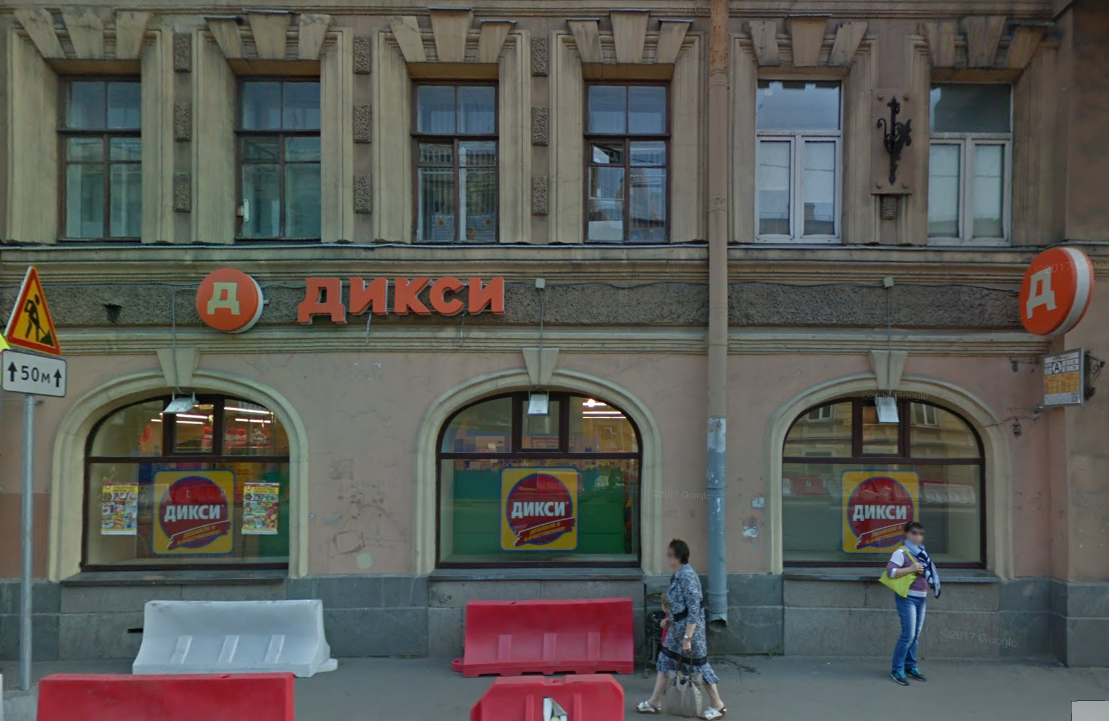cantilever: (1007, 238, 1096, 344)
signboard: (191, 256, 511, 335)
win_ad: (837, 466, 921, 556), (503, 467, 580, 552), (153, 472, 230, 555)
window: (781, 383, 991, 569), (436, 387, 640, 566), (82, 392, 290, 564), (409, 79, 503, 247), (234, 72, 324, 241), (751, 73, 841, 240), (56, 75, 141, 243), (585, 82, 671, 242), (927, 86, 1013, 237)
